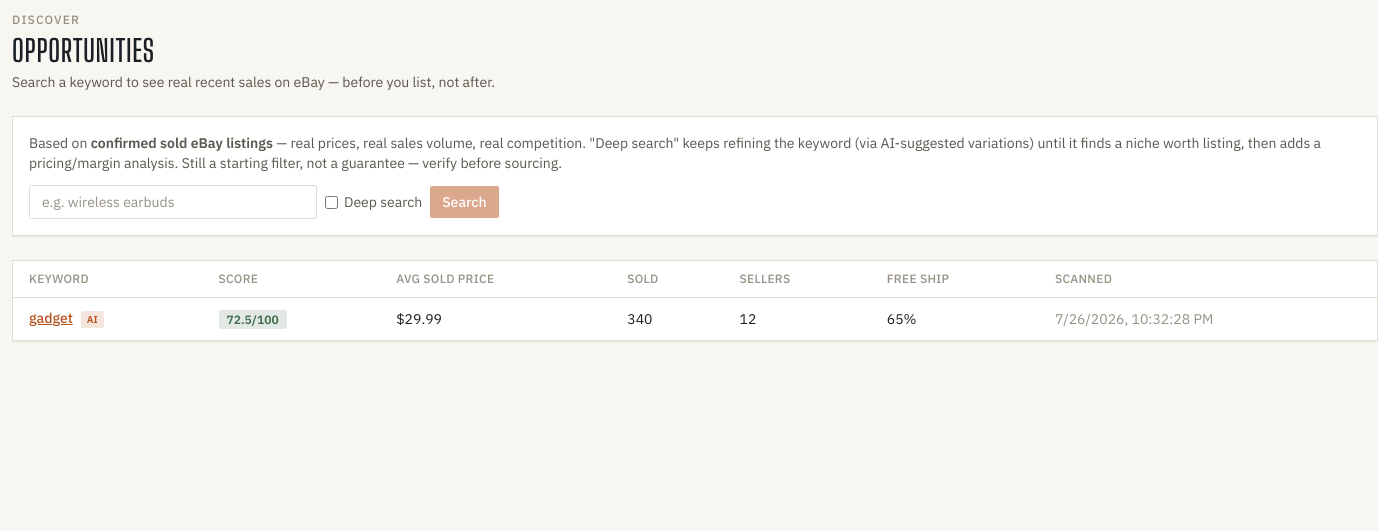
Scenario: OpportunitiesPage › sends deepSearch: true and renders the AI verdict block when present
Type "gadget" into the field with placeholder "e.g. wireless earbuds".
click(173, 202); type("gadget")  # box [29,185,317,219]
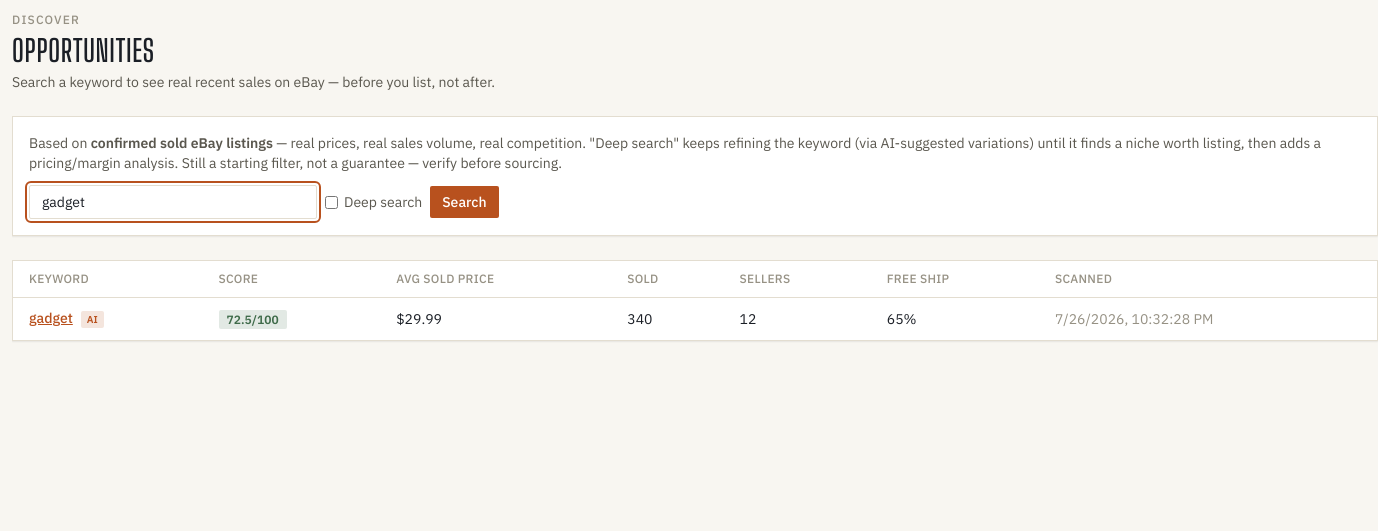
Click the checkbox labelled "Deep search".
click(332, 202)  # box [325,196,338,208]
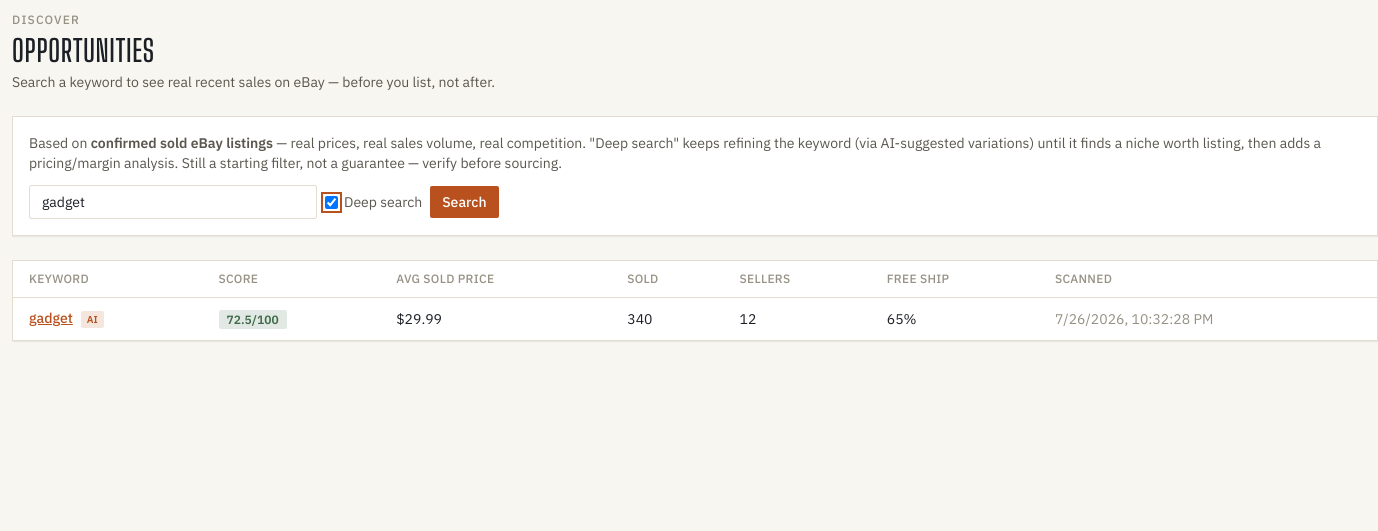
Click the button "Search".
click(464, 202)  # box [430,186,499,218]
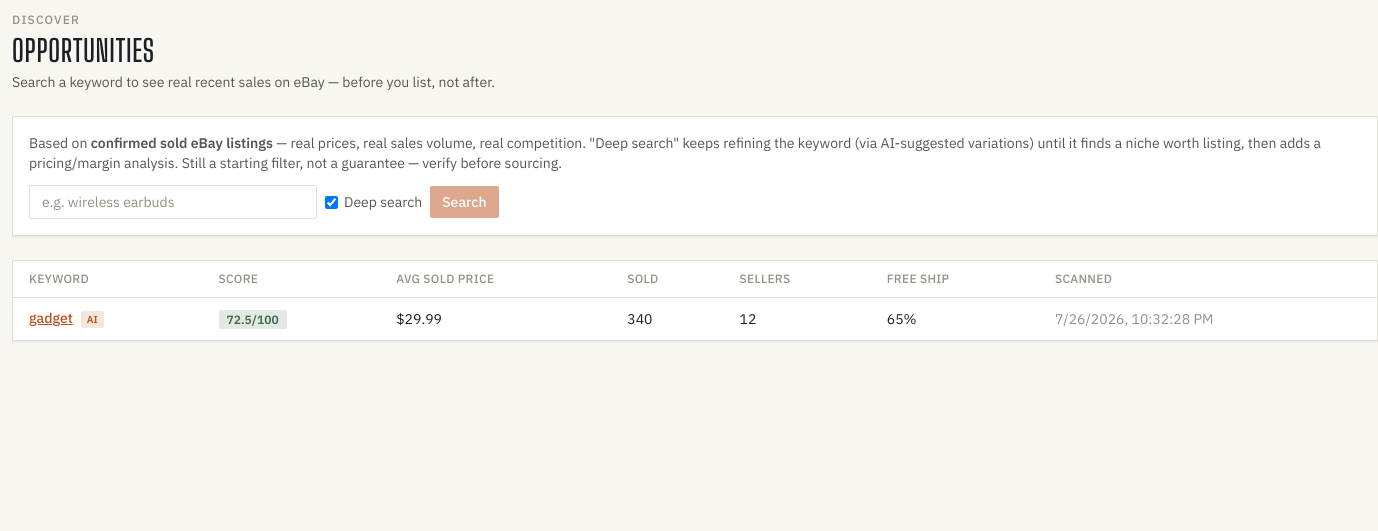
Click the button "gadget".
click(51, 318)  # box [29,308,73,328]
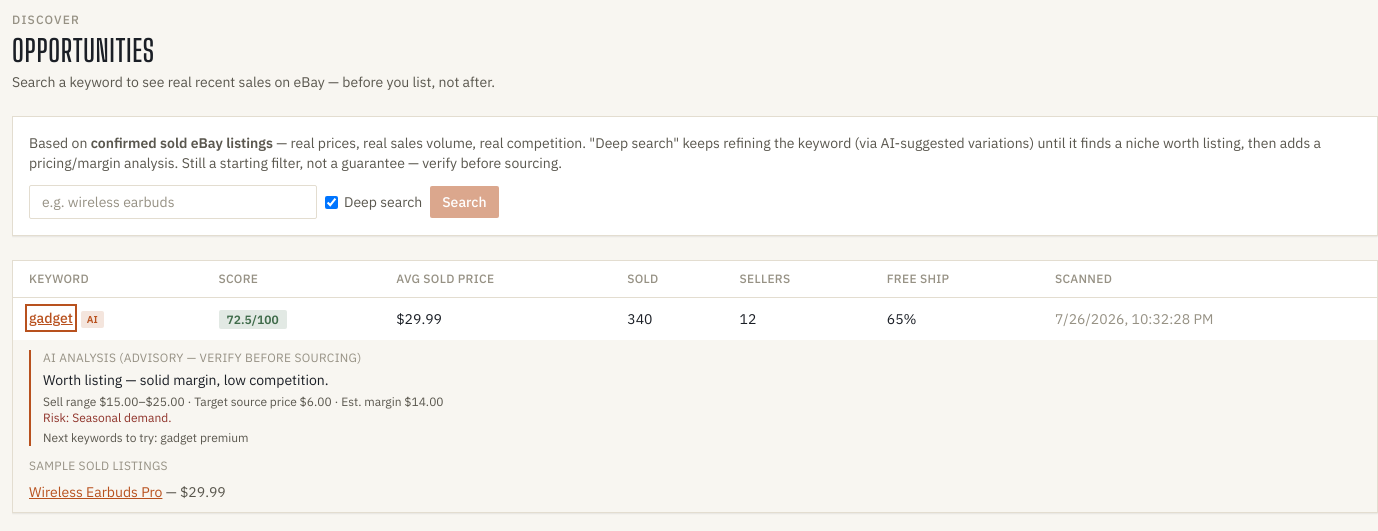
expect the text "Worth listing — solid margin, low competition." is shown: met, box [43,371,328,389]
expect the text "Risk: Seasonal demand." is shown: met, box [43,410,172,425]
